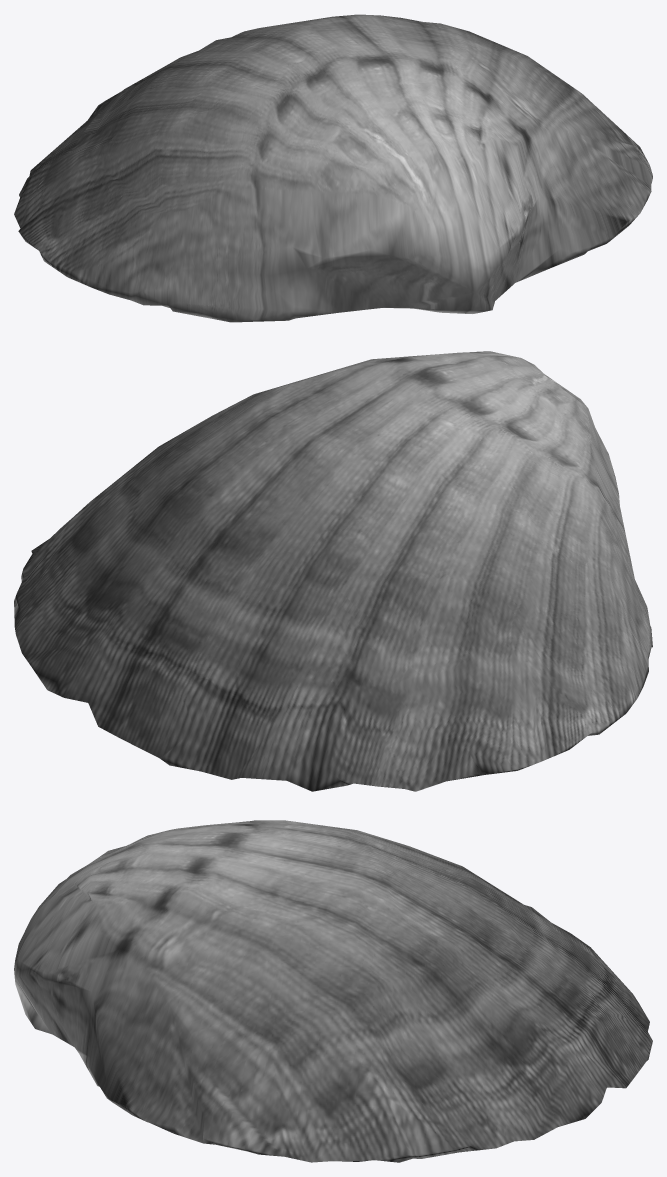
Rendered from Shell.fbx.
The picture shows the model from 3 angles, top to bottom: view 1: azimuth 30°, elevation 25°; view 2: azimuth 150°, elevation 25°; view 3: azimuth 270°, elevation 25°; orthographic projection. The views are drawn at different scales.
Parts seen in each view (by area): view 1: Shell:Mesh; view 2: Shell:Mesh; view 3: Shell:Mesh.
Part boxes in pixels (bbox=[...]): Shell:Mesh: bbox=[14, 14, 652, 322]; Shell:Mesh: bbox=[14, 351, 652, 791]; Shell:Mesh: bbox=[14, 820, 652, 1162].
Bounding box in the file's own units: 3.43 × 1.29 × 3.55.
